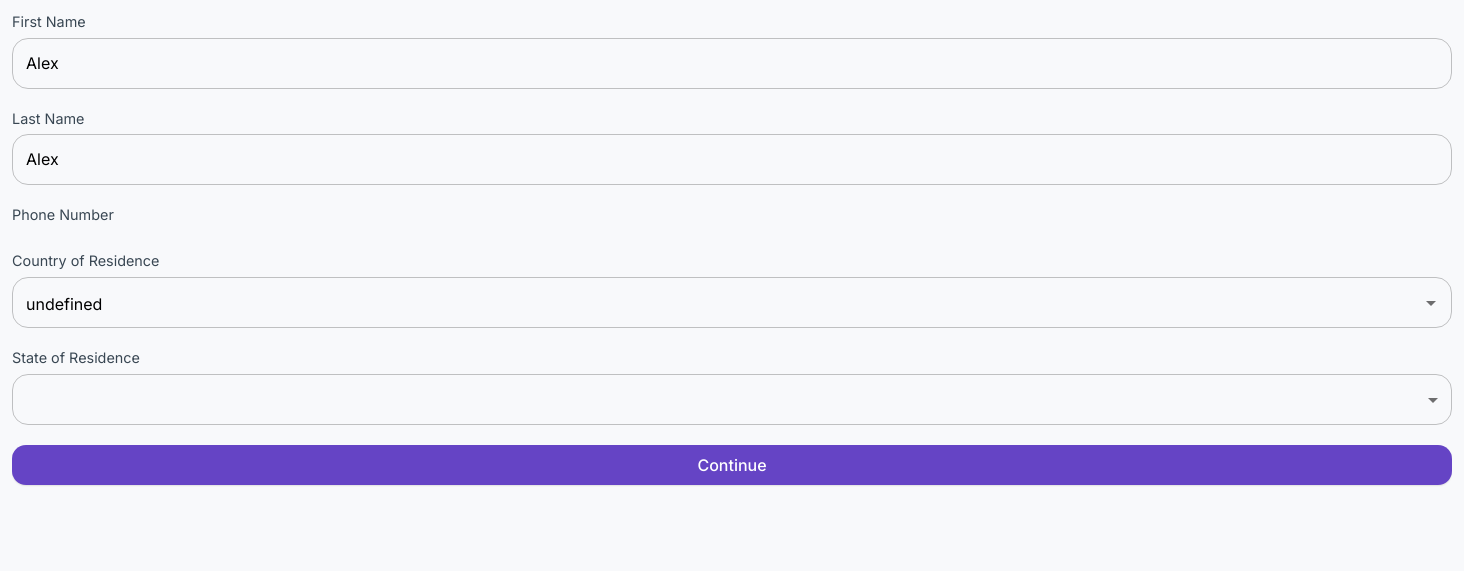
Test: Profile form component › should error for failed API request form
Click the button "Continue": (732, 465) x1=12 y1=445 x2=1452 y2=485
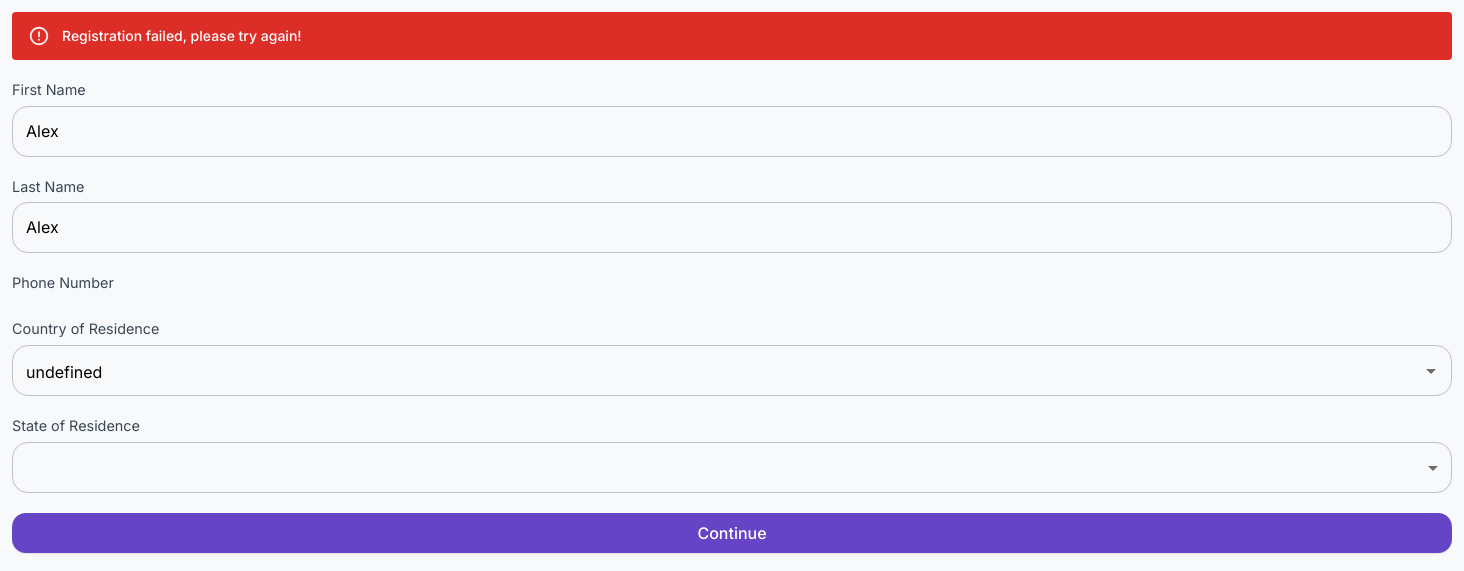
Now the text "Registration failed, please try again!" is shown, box x1=62 y1=27 x2=302 y2=44
